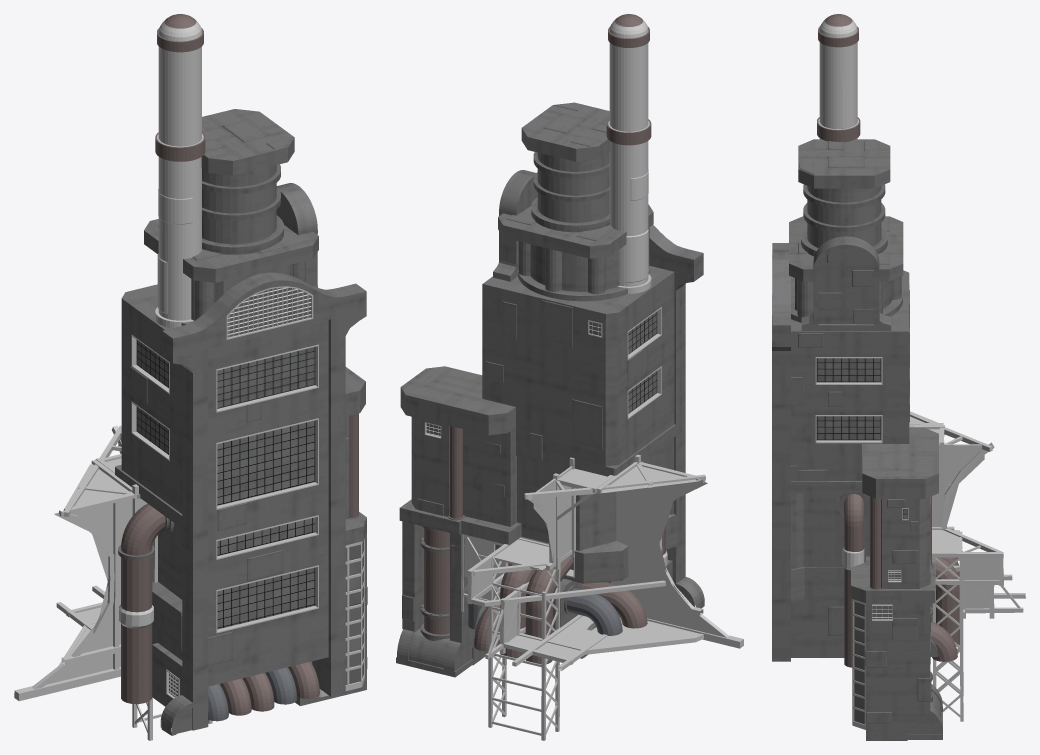
Rendered from AreaC_Building_Ab.fbx.
3 renders of one model, left to right at view 1: azimuth 30°, elevation 25°; view 2: azimuth 150°, elevation 25°; view 3: azimuth 270°, elevation 25°, orthographic. The views are drawn at different scales.
Parts seen in each view (by area): view 1: SM_ENV_AMVLLG02_AreaC_Building_Ab.mo; view 2: SM_ENV_AMVLLG02_AreaC_Building_Ab.mo; view 3: SM_ENV_AMVLLG02_AreaC_Building_Ab.mo.
Boxes of the visible parts, box(x1,y1,x2,y2) form: SM_ENV_AMVLLG02_AreaC_Building_Ab.mo: box(14, 14, 367, 740); SM_ENV_AMVLLG02_AreaC_Building_Ab.mo: box(396, 14, 743, 740); SM_ENV_AMVLLG02_AreaC_Building_Ab.mo: box(772, 14, 1025, 740).
Bounding box in the file's own units: 3157 × 6598 × 2263.
